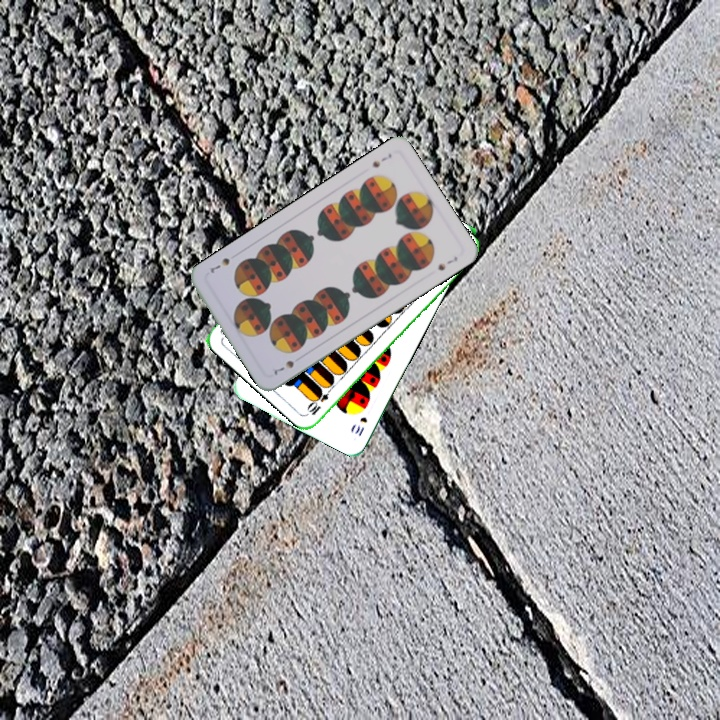E10: (304, 382, 336, 418)
S10: (351, 413, 370, 439)
S7: (269, 356, 297, 378), (368, 149, 394, 170)
